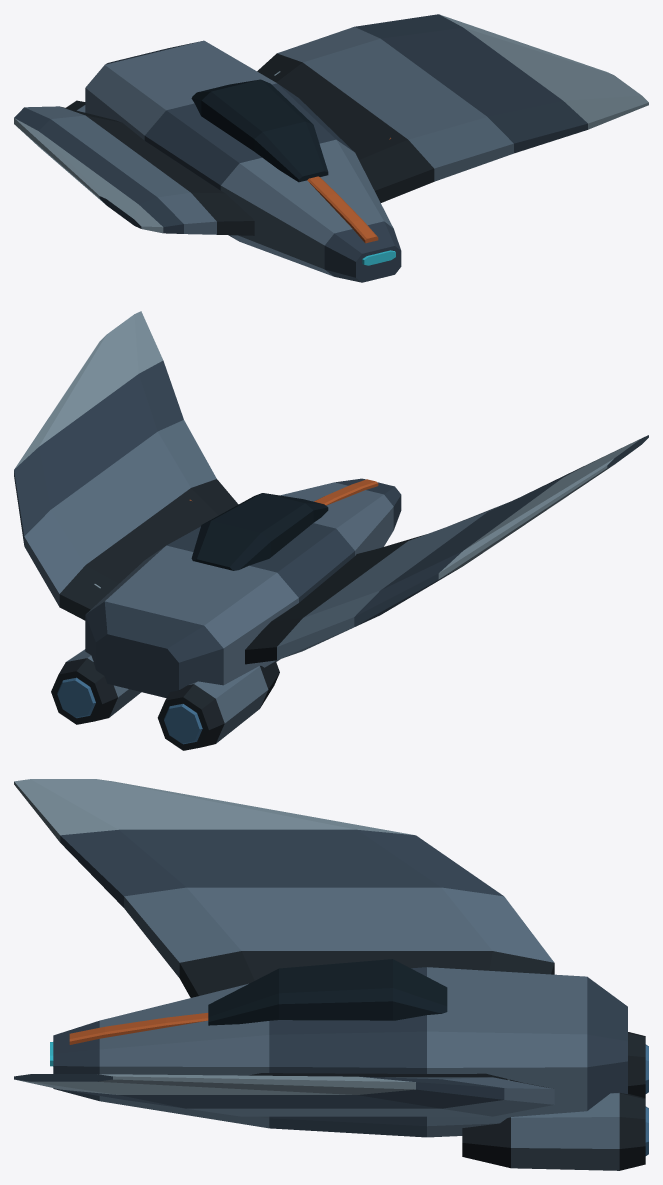
Rendered from FangFireHullDamaged.obj.
3 views of the same model, one above another, from view 1: azimuth 30°, elevation 25°; view 2: azimuth 150°, elevation 25°; view 3: azimuth 270°, elevation 25° (orthographic). The views are drawn at different scales.
Visible parts, largest first — view 1: starboard_wing, fuselage, port_wing, canopy, copper_spine; view 2: starboard_wing, fuselage, port_wing, canopy, port_engine, starboard_engine, starboard_exhaust, port_exhaust, copper_spine; view 3: port_wing, fuselage, starboard_wing, canopy, starboard_engine, copper_spine, port_engine.
Part boxes in pixels (box(x1,y1,x2,y2)): starboard_wing: box(257, 14, 648, 202); fuselage: box(85, 40, 401, 282); port_wing: box(14, 106, 254, 235); canopy: box(191, 79, 328, 182); copper_spine: box(307, 176, 378, 243); starboard_wing: box(14, 311, 238, 620); fuselage: box(85, 478, 401, 697); port_wing: box(245, 435, 648, 664); canopy: box(191, 493, 328, 570); port_engine: box(157, 661, 279, 750); starboard_engine: box(51, 649, 141, 724); starboard_exhaust: box(57, 677, 95, 718); port_exhaust: box(164, 704, 202, 744); copper_spine: box(314, 479, 378, 505); port_wing: box(14, 779, 554, 997); fuselage: box(53, 967, 627, 1137); starboard_wing: box(14, 1073, 554, 1116); canopy: box(208, 959, 447, 1025); starboard_engine: box(462, 1092, 645, 1170); copper_spine: box(69, 1013, 208, 1044); port_engine: box(628, 1032, 645, 1097).
Bounding box in the file's own units: 5.14 × 1.72 × 4.67.
